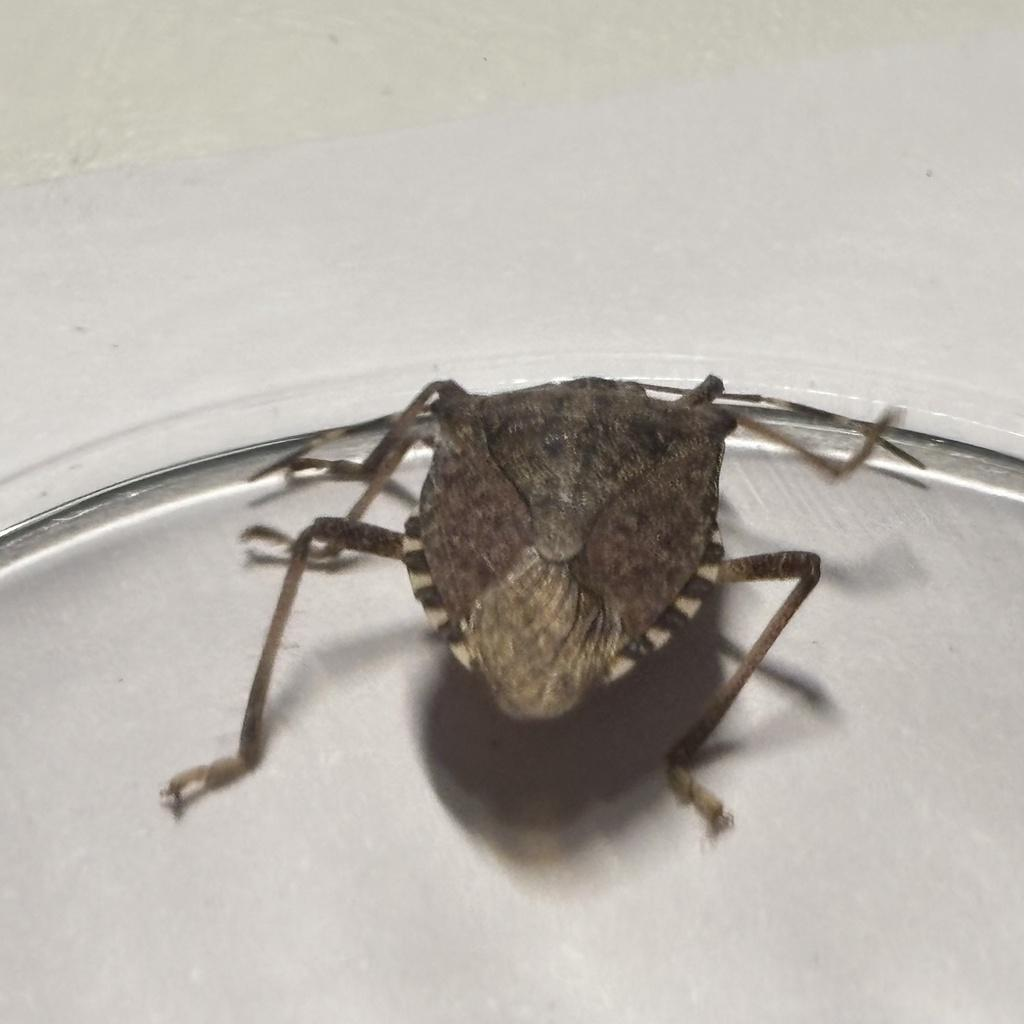stink_bugs: (107, 267, 995, 946)
